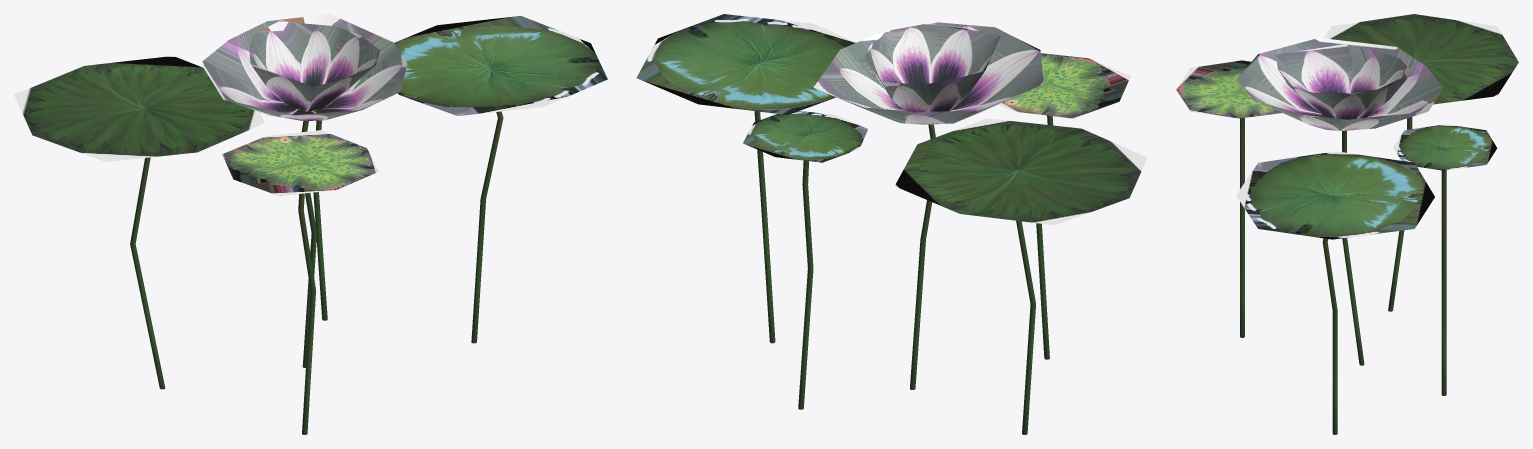
The picture shows the model from 3 angles, left to right: view 1: azimuth 30°, elevation 25°; view 2: azimuth 150°, elevation 25°; view 3: azimuth 270°, elevation 25°; orthographic projection. The views are drawn at different scales.
Visible parts, largest first — view 1: 04dd6362; view 2: 04dd6362; view 3: 04dd6362.
Part boxes in pixels (x1,y1,x2,y2): 04dd6362: [14, 14, 607, 434]; 04dd6362: [636, 14, 1147, 434]; 04dd6362: [1176, 14, 1518, 434].
Size of the model in its own units: 0.2345 by 0.1427 by 0.1506.
Materials: 1 (1 with a texture image).
